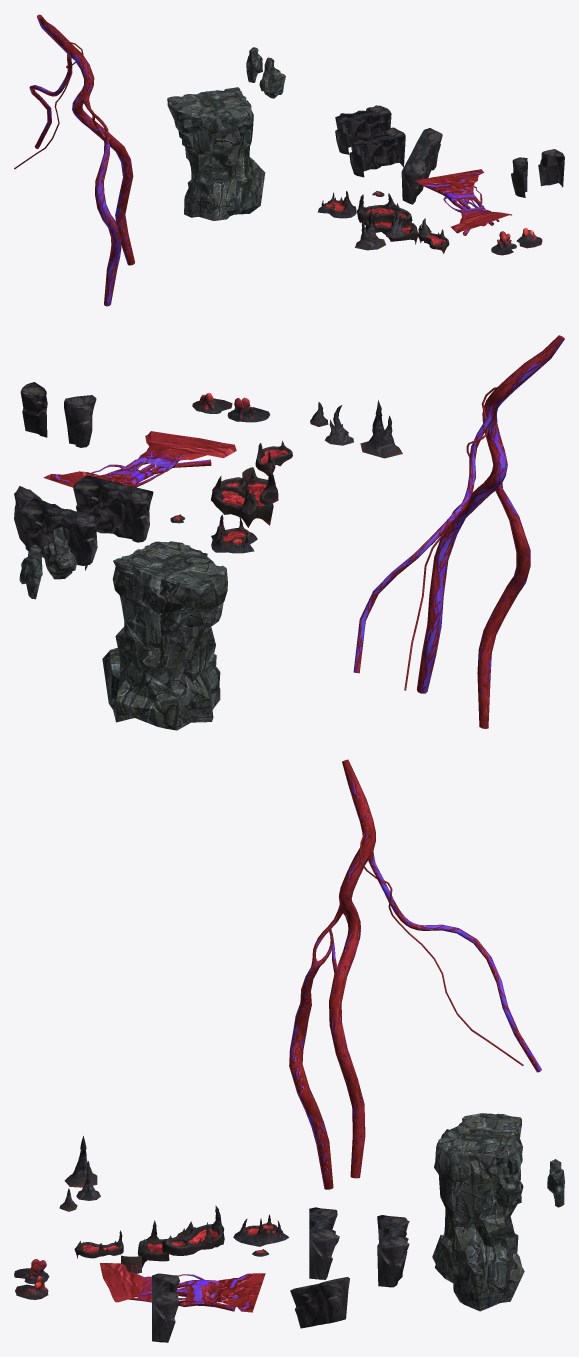
The model's file is f_1116_wujian.FBX.
3 renders of one model, top to bottom at view 1: azimuth 30°, elevation 25°; view 2: azimuth 150°, elevation 25°; view 3: azimuth 270°, elevation 25°, orthographic. The views are drawn at different scales.
Visible parts, largest first — view 1: f_106_frool_01, d_106_egg_04, Group55268 (×2), Object016, Group55267, Group55267dd, Object023, Object001 (×2), f_106_frool_05, Object027, f_106_frool_04, Object025; view 2: f_106_frool_01, d_106_egg_04, Group55268 (×2), Group55267, Object016, Object023, Object001 (×2), f_106_frool_05, Object027, f_106_frool_04, Object025, Group55267dd (+1 smaller); view 3: f_106_frool_01, d_106_egg_04, Object016, Group55268 (×2), Group55267dd, Object023, Group55267, f_106_frool_05, Object001.
Part boxes in pixels (x1,y1,x2,y2): f_106_frool_01: (167,87,265,220); d_106_egg_04: (14,14,134,306); Group55268 (×2): (335,105,564,187); Object016: (415,169,511,233); Group55267: (349,127,405,177); Group55267dd: (401,128,442,204); Object023: (357,193,418,244); Object001 (×2): (317,157,527,218); f_106_frool_05: (259,57,285,98); Object027: (355,208,385,250); f_106_frool_04: (246,47,262,82); Object025: (417,224,449,253); f_106_frool_01: (102,541,227,730); d_106_egg_04: (353,335,564,728); Group55268 (×2): (19,382,100,565); Group55267: (73,475,153,542); Object016: (43,431,236,487); Object023: (211,466,278,527); Object001 (×2): (64,395,257,553); f_106_frool_05: (43,526,77,579); Object027: (360,400,402,458); f_106_frool_04: (19,544,42,599); Object025: (255,440,292,475); Group55267dd: (14,486,87,570); f_106_frool_01: (432,1113,524,1311); d_106_egg_04: (289,759,541,1189); Object016: (100,1263,265,1312); Group55268 (×2): (152,1215,409,1342); Group55267dd: (290,1277,349,1328); Object023: (137,1205,224,1267); Group55267: (309,1207,339,1279); f_106_frool_05: (495,1156,523,1208); Object001: (233,1214,288,1246).
Size of the model in its own units: 10013 by 6298 by 8052.
